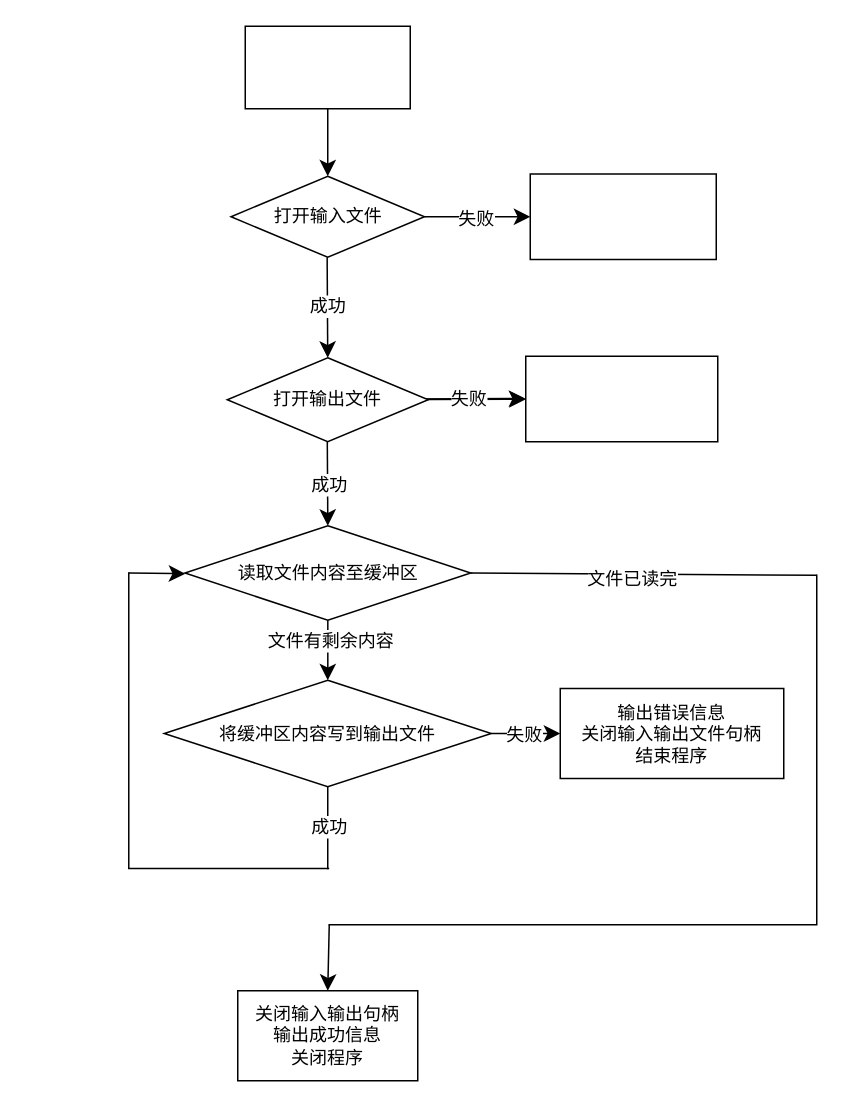
This 845x1107 diagram has some shape labels left out. Each missing label, with the centre of its shape:
"开始" goes at point 327,67.
"输出错误信息 关闭输入文件句柄 结束程序" goes at point 621,398.
"输出错误信息 结束程序" goes at point 622,216.
